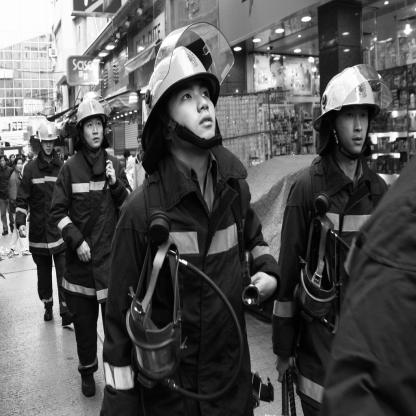Helmet: (140, 20, 235, 152), (315, 64, 393, 159), (75, 90, 110, 154), (33, 121, 59, 158)
